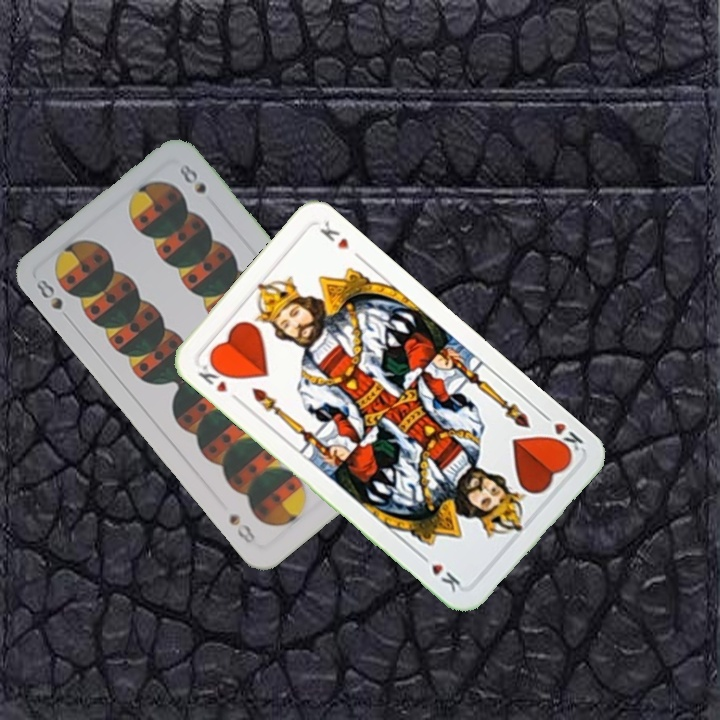HK: (537, 408, 587, 459), (194, 356, 243, 405)
S8: (32, 274, 75, 326)
